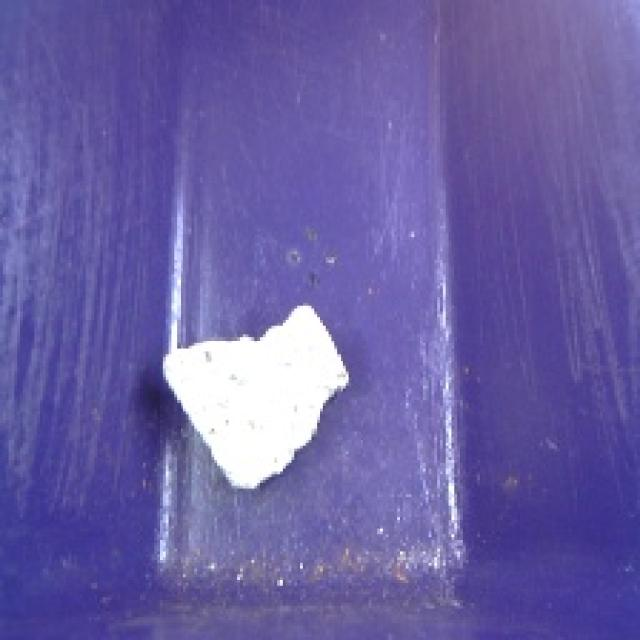brick: (156, 297, 356, 494)
